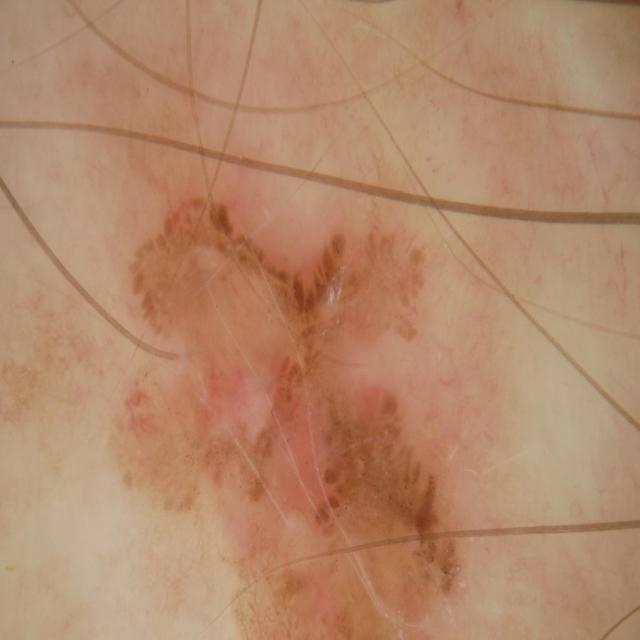Melanoma: (103, 176, 521, 640)
